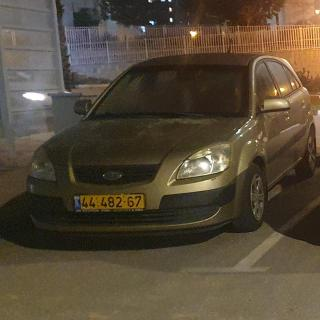LicensePlate: (80, 194, 145, 209)
